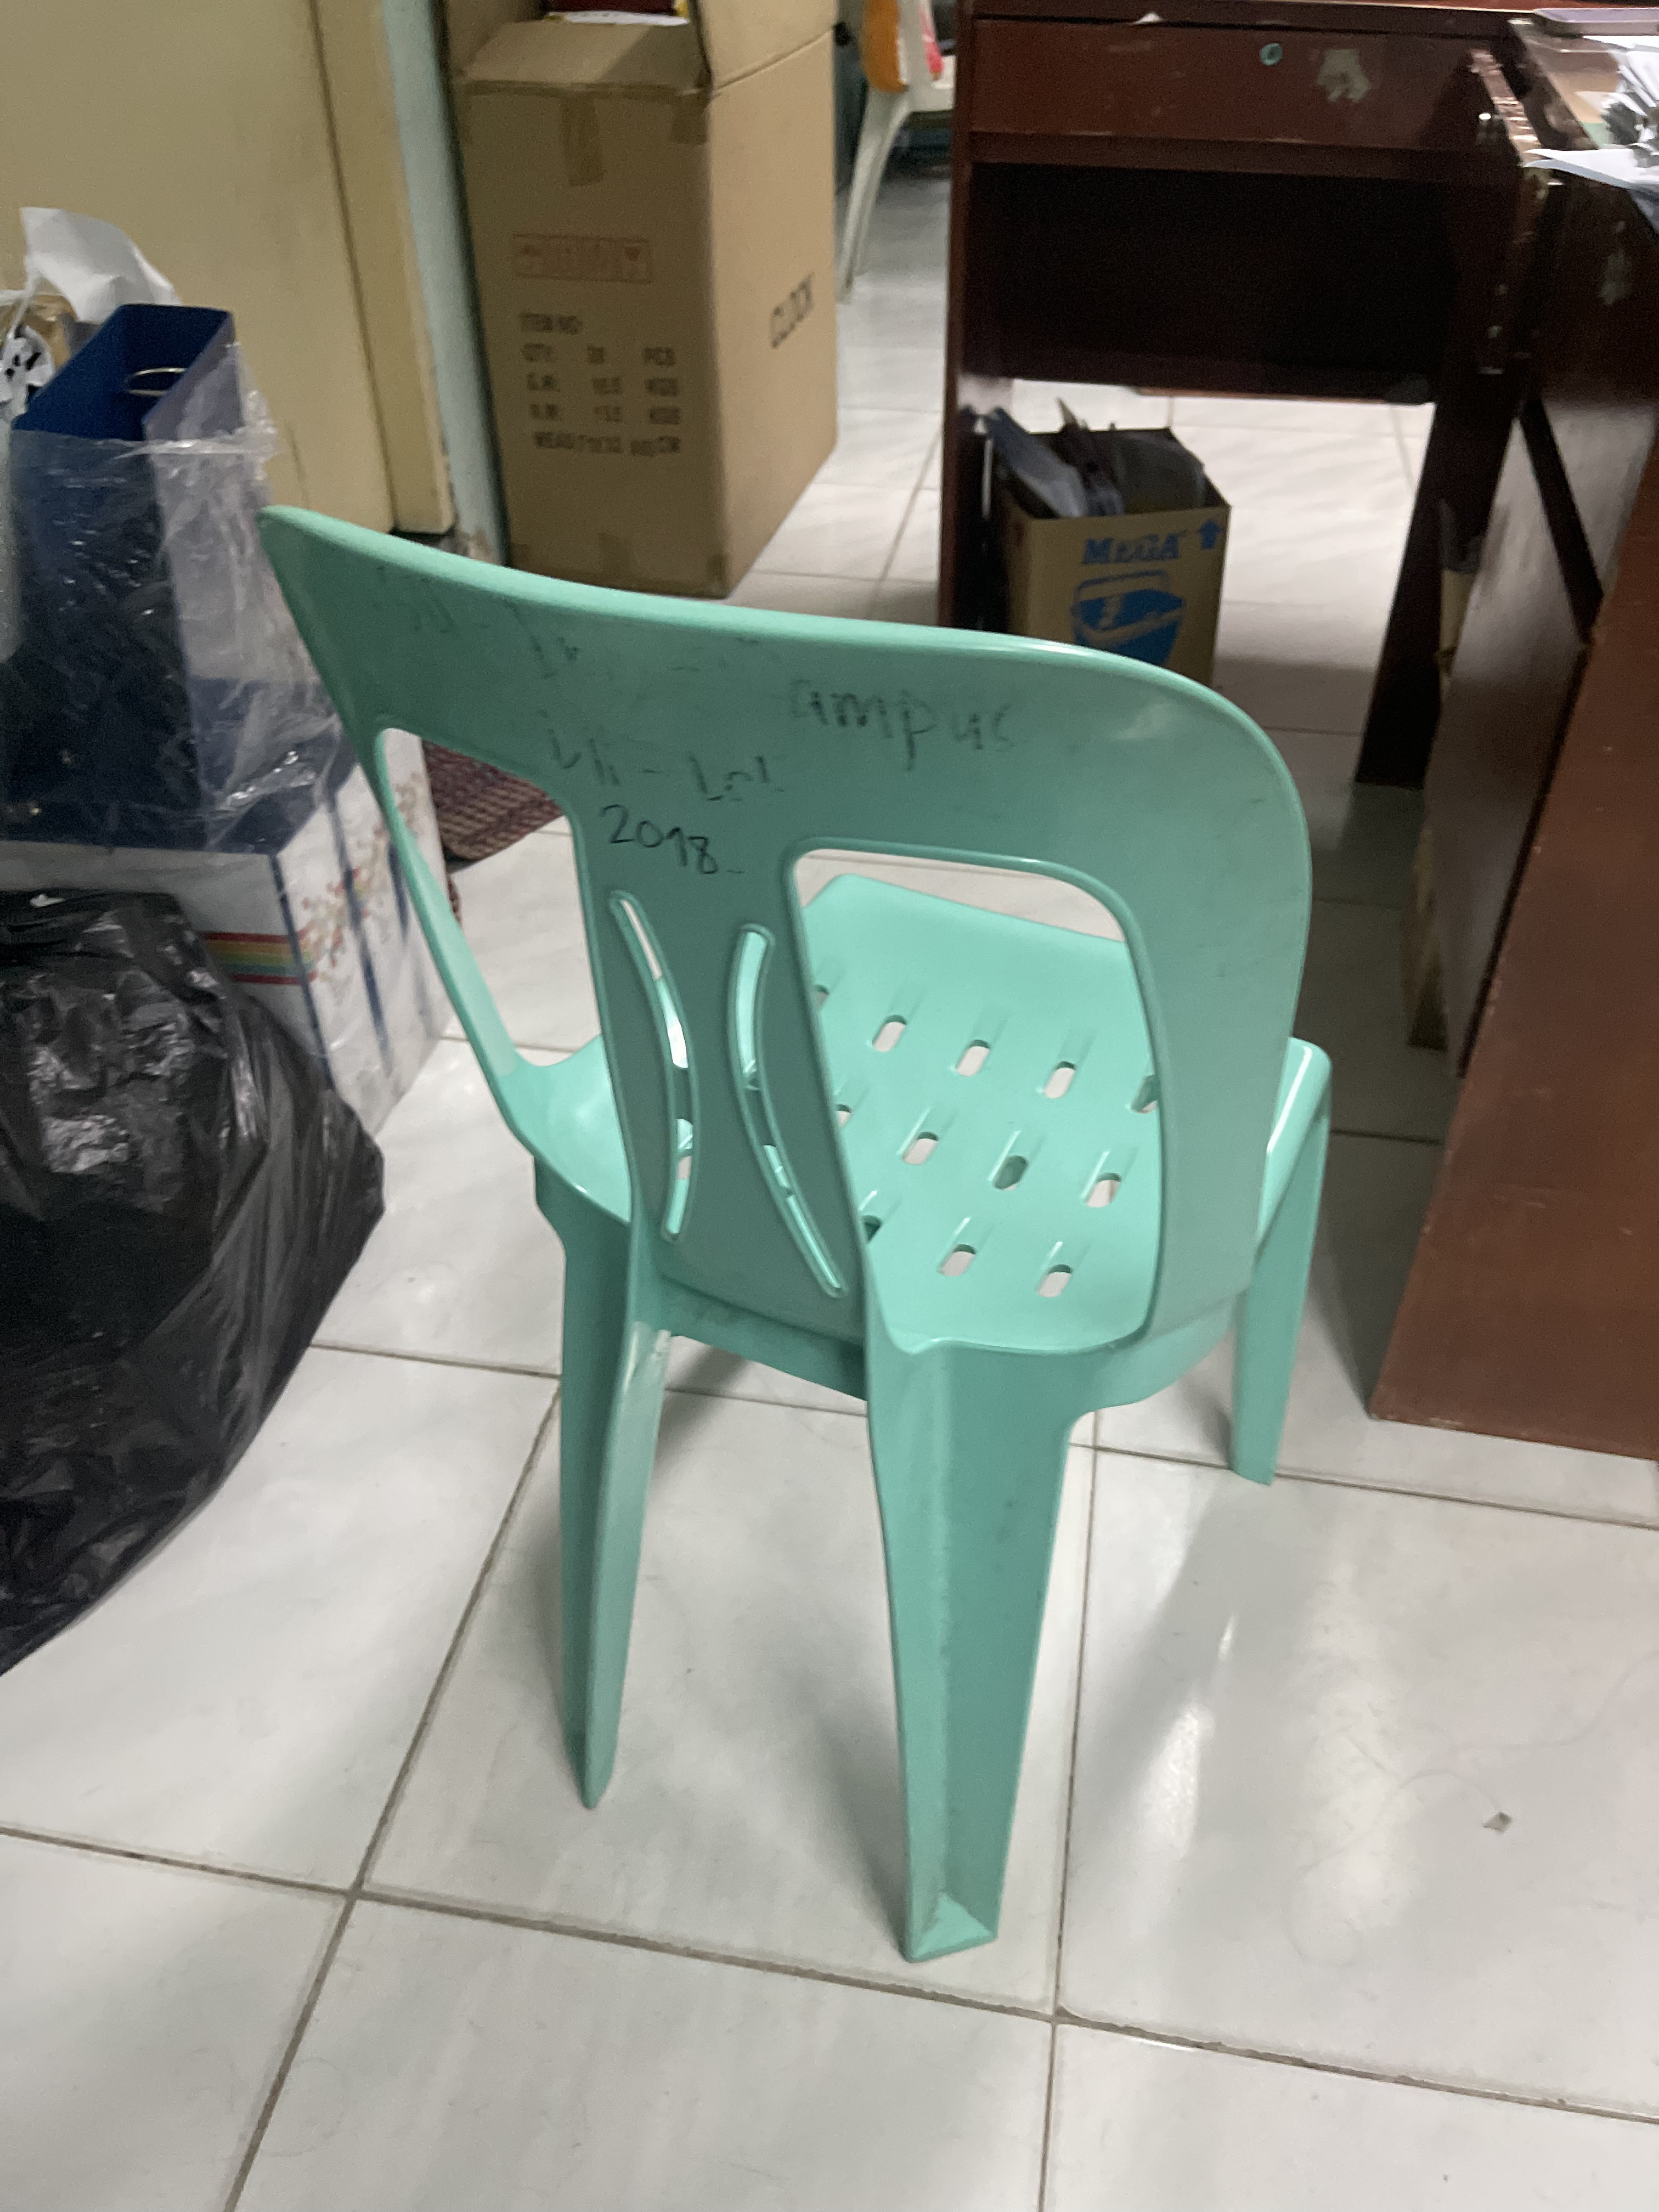chair2: (247, 491, 1342, 1970)
